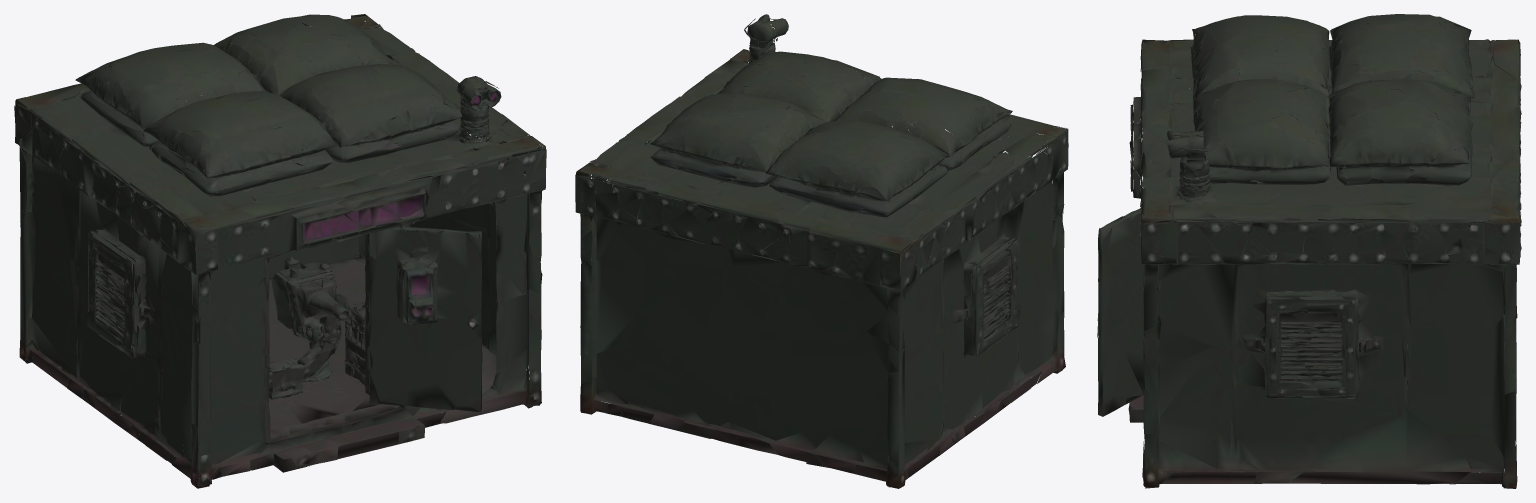
Rendered from pillbox.glb.
The picture shows the model from 3 angles, left to right: view 1: azimuth 30°, elevation 25°; view 2: azimuth 150°, elevation 25°; view 3: azimuth 270°, elevation 25°; orthographic projection. The views are drawn at different scales.
Parts seen in each view (by area): view 1: Mesh_0; view 2: Mesh_0; view 3: Mesh_0.
Part boxes in pixels (box(x1,y1,x2,y2)): Mesh_0: box(14, 14, 546, 488); Mesh_0: box(575, 14, 1068, 488); Mesh_0: box(1097, 14, 1521, 488).
Bounding box in the file's own units: 1.91 × 1.59 × 1.83.
Materials: 1 (1 with a texture image).
